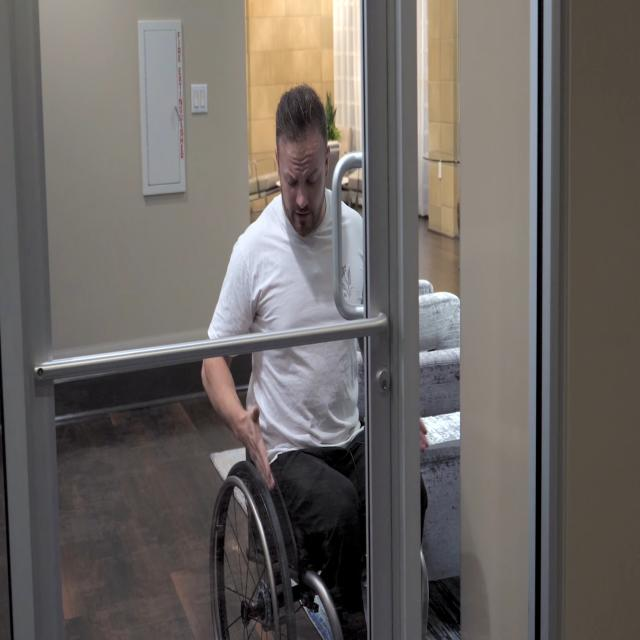wheelchairs: (207, 324, 431, 640)
